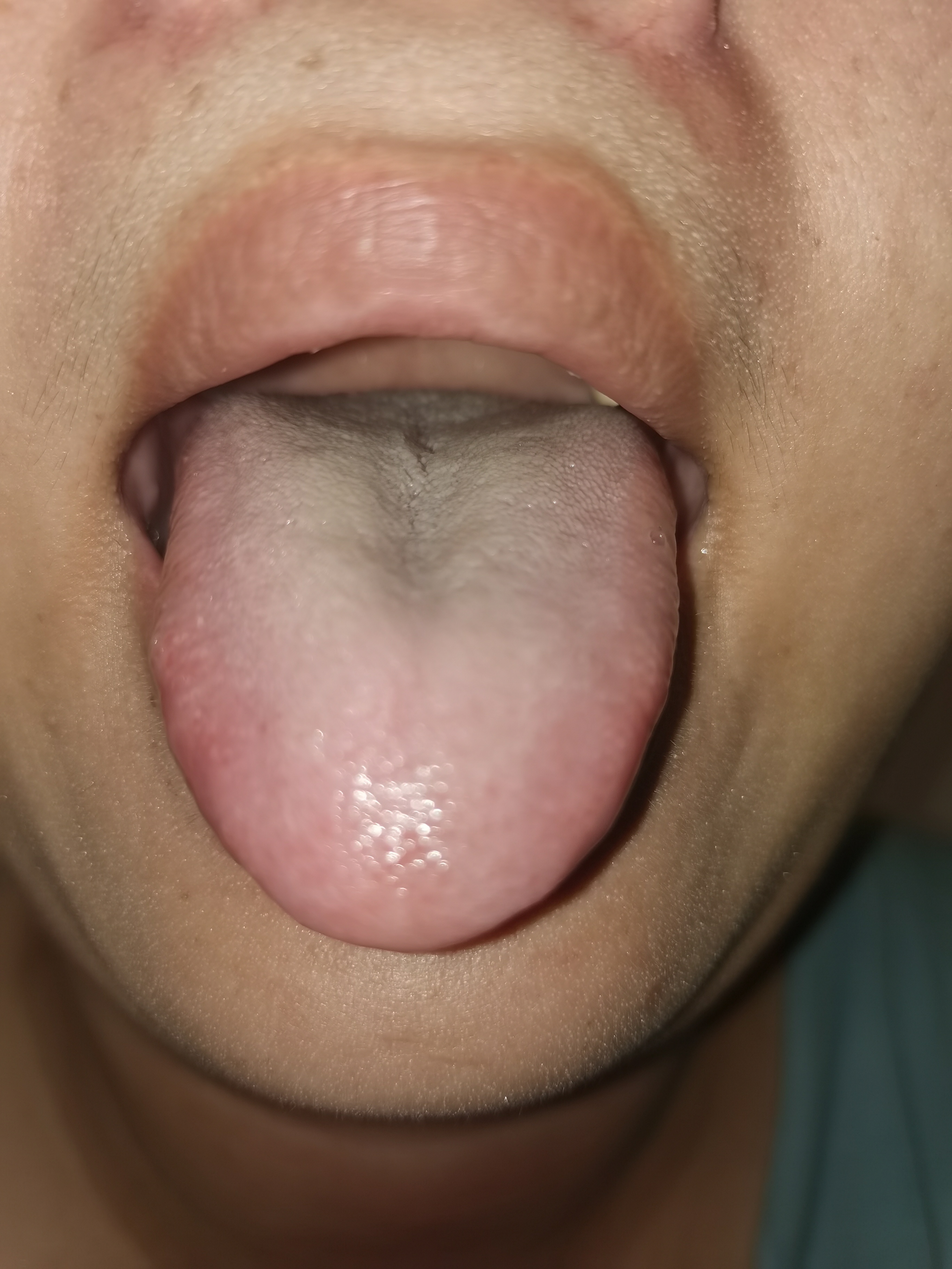baitaishe: (150, 388, 679, 950)
